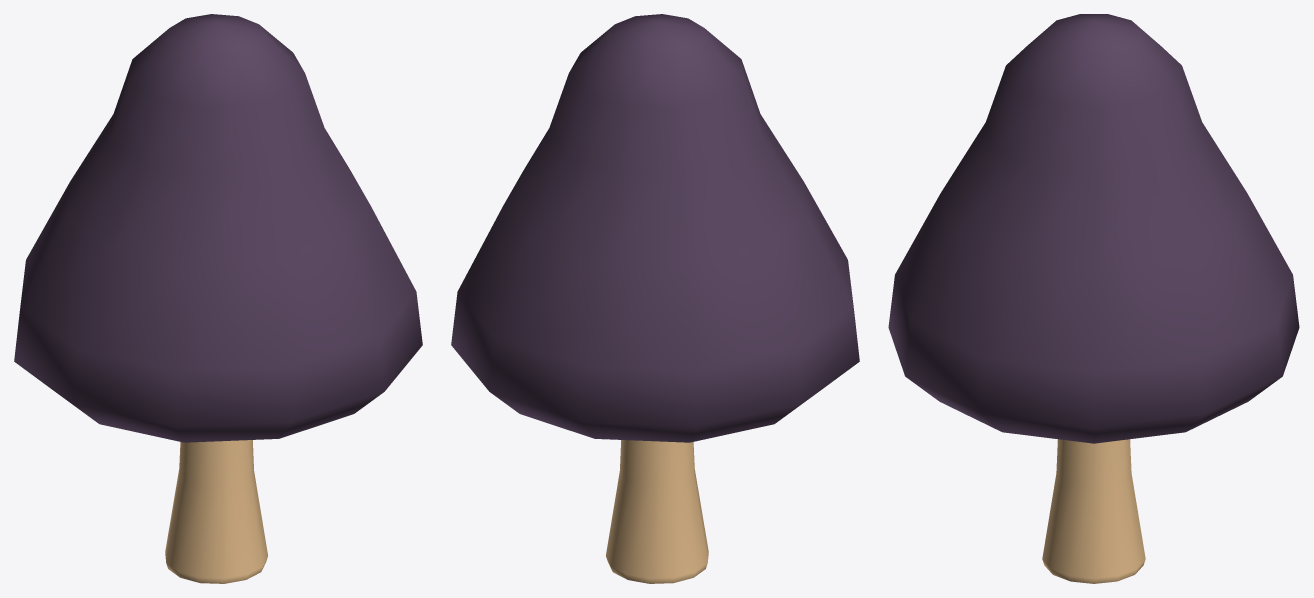
File: Hongo_1.fbx
3 views of the same model, side by side, from view 1: azimuth 30°, elevation 25°; view 2: azimuth 150°, elevation 25°; view 3: azimuth 270°, elevation 25° (orthographic).
Parts seen in each view (by area): view 1: Honguito_1; view 2: Honguito_1; view 3: Honguito_1.
Part boxes in pixels (x1,y1,x2,y2): Honguito_1: (14,14,422,583); Honguito_1: (451,14,859,583); Honguito_1: (888,14,1299,583).
Size of the model in its own units: 39.3 by 58.03 by 39.71.
1 material, 1 textured.
